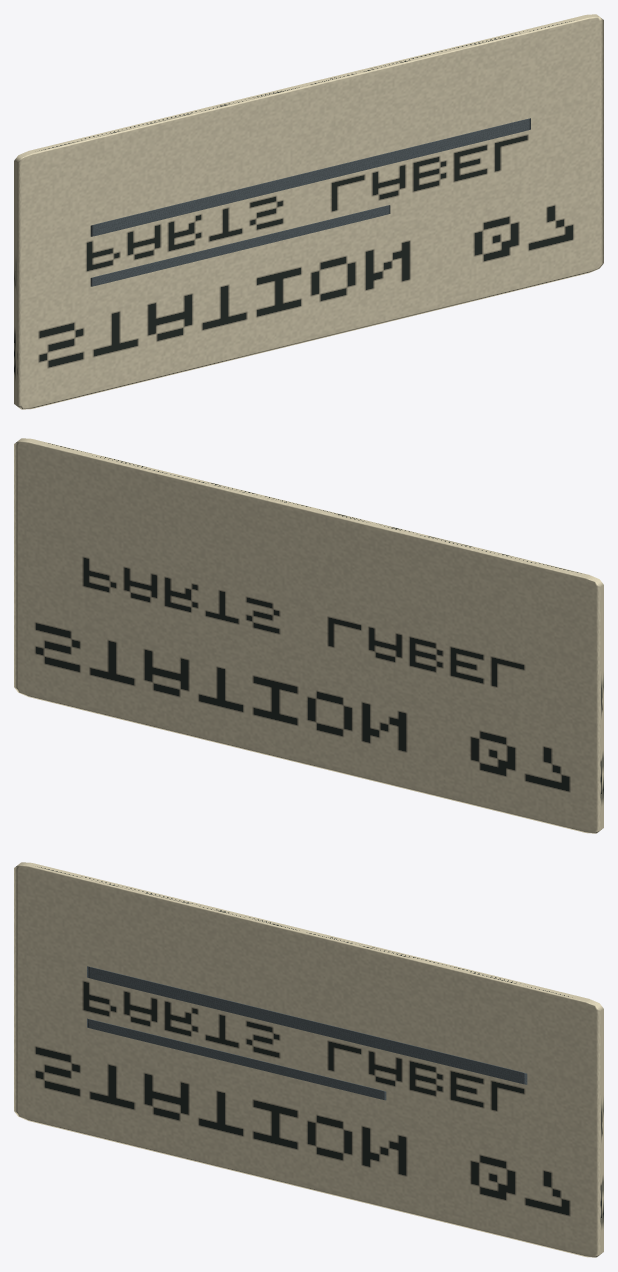
Rendered from parts-label.glb.
3 renders of one model, top to bottom at view 1: azimuth 30°, elevation 25°; view 2: azimuth 150°, elevation 25°; view 3: azimuth 330°, elevation 25°, orthographic.
Parts seen in each view (by area): view 1: board, stripe, line; view 2: board; view 3: board, stripe, line.
Boxes of the visible parts, left/top/right/bottom form: board: left=14, top=14, right=603, bottom=409; stripe: left=90, top=118, right=530, bottom=236; line: left=90, top=205, right=390, bottom=286; board: left=14, top=438, right=603, bottom=833; board: left=14, top=862, right=603, bottom=1257; stripe: left=87, top=966, right=527, bottom=1084; line: left=87, top=1018, right=386, bottom=1100.
Bounding box in the file's own units: 0.12 × 0.05 × 0.00136.
Materials: 2 (2 with a texture image).
